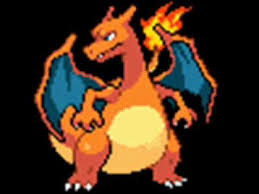charizard: (31, 4, 221, 193)
